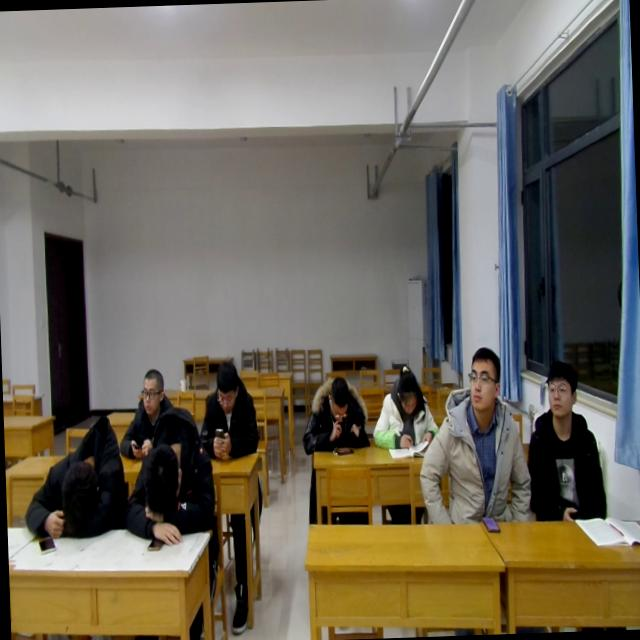bow: (18, 420, 128, 540), (122, 414, 218, 550)
down: (392, 354, 422, 415), (210, 352, 239, 414), (324, 368, 350, 424)
lookup: (462, 339, 502, 411), (542, 356, 580, 419), (138, 364, 166, 422)
sit: (416, 342, 532, 528), (521, 352, 610, 520), (196, 352, 260, 459), (368, 362, 440, 454), (298, 371, 371, 456), (119, 361, 173, 456)
